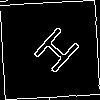H: (24, 24, 82, 82)
